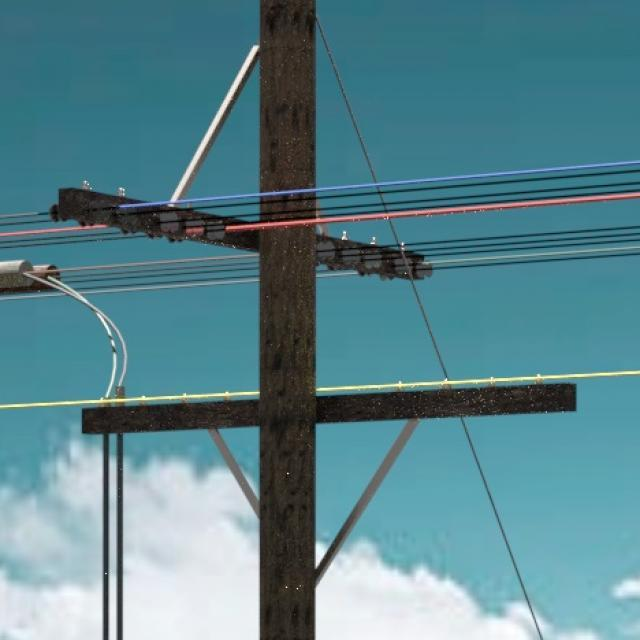crossarm: (64, 186, 433, 284), (83, 383, 574, 429)
pole: (261, 0, 315, 638)
